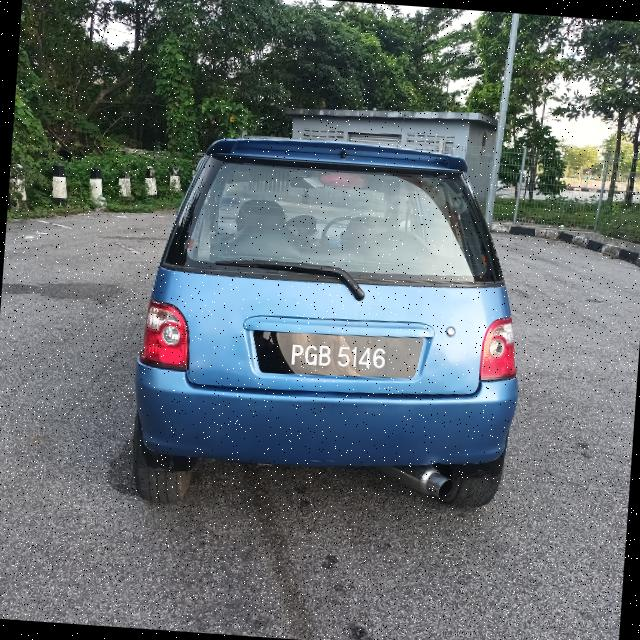License_Plate: (259, 329, 418, 381)
car: (114, 115, 541, 531)
